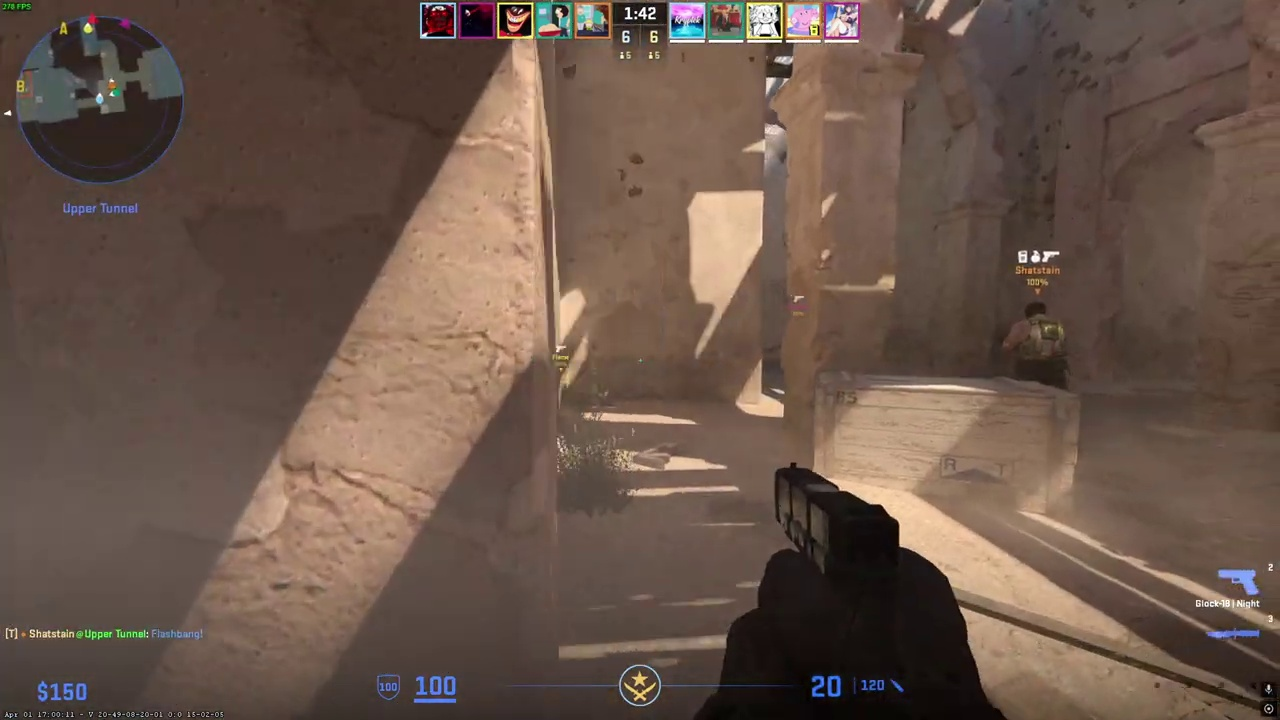Terrorist: (1005, 301, 1068, 391)
